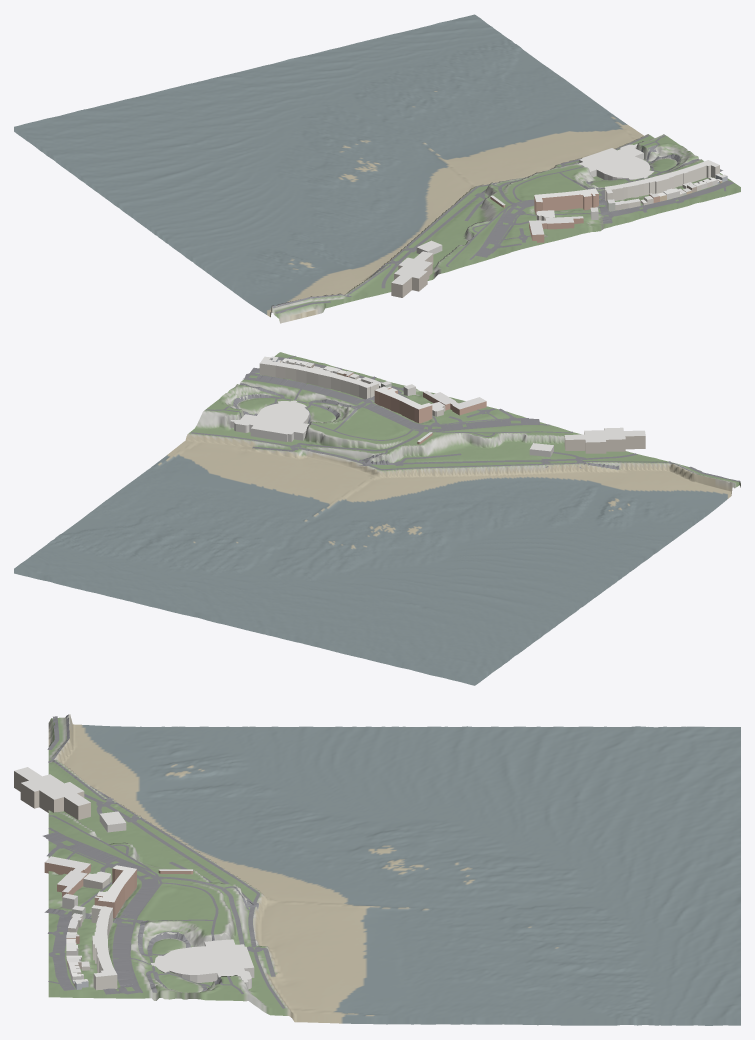
The picture shows the model from 3 angles, top to bottom: view 1: azimuth 30°, elevation 25°; view 2: azimuth 150°, elevation 25°; view 3: azimuth 270°, elevation 25°; orthographic projection. The views are drawn at different scales.
Parts seen in each view (by area): view 1: prim0, prim1, prim2; view 2: prim0, prim1, prim2; view 3: prim0, prim1, prim2.
Boxes of the visible parts, left/top/right/bottom form: prim0: left=14, top=14, right=740, bottom=323; prim1: left=391, top=144, right=727, bottom=297; prim2: left=272, top=135, right=733, bottom=313; prim0: left=14, top=352, right=740, bottom=685; prim1: left=230, top=356, right=645, bottom=457; prim2: left=191, top=356, right=740, bottom=481; prim0: left=48, top=714, right=740, bottom=1025; prim1: left=14, top=767, right=254, bottom=990; prim2: left=43, top=714, right=285, bottom=1008.
Bounding box in the file's own units: 519 × 38.67 × 538.
